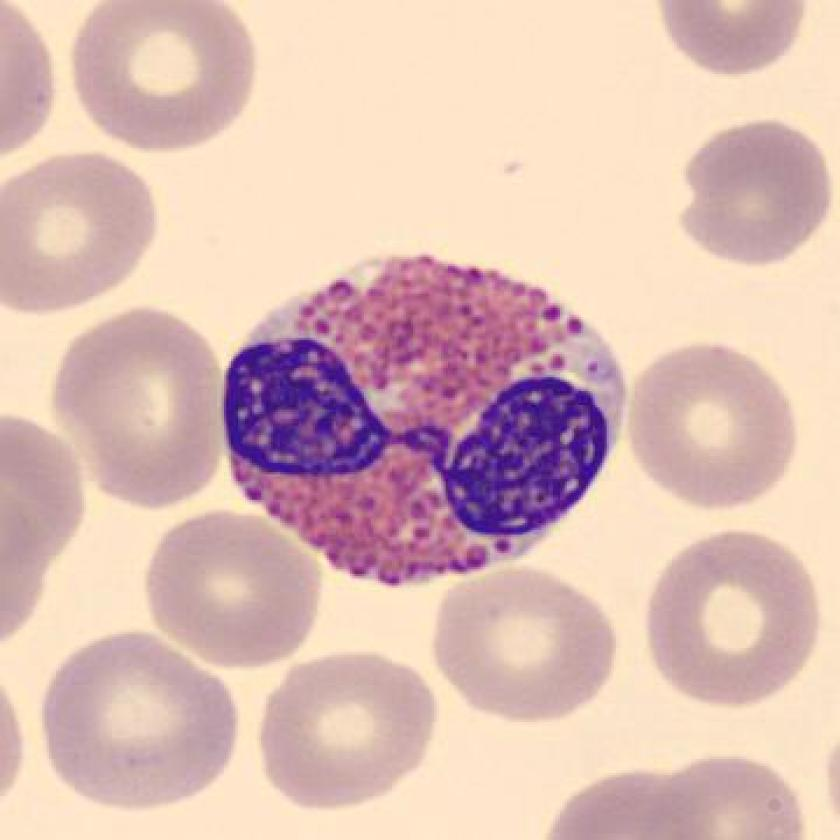eosinophil: (216, 242, 643, 603)
